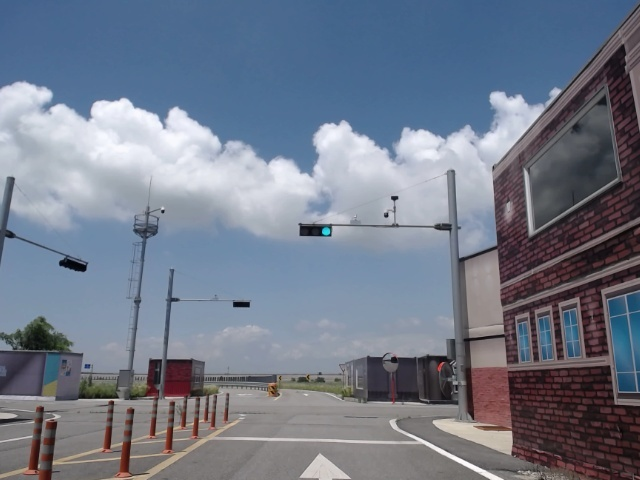green_3: (300, 226, 332, 236)
